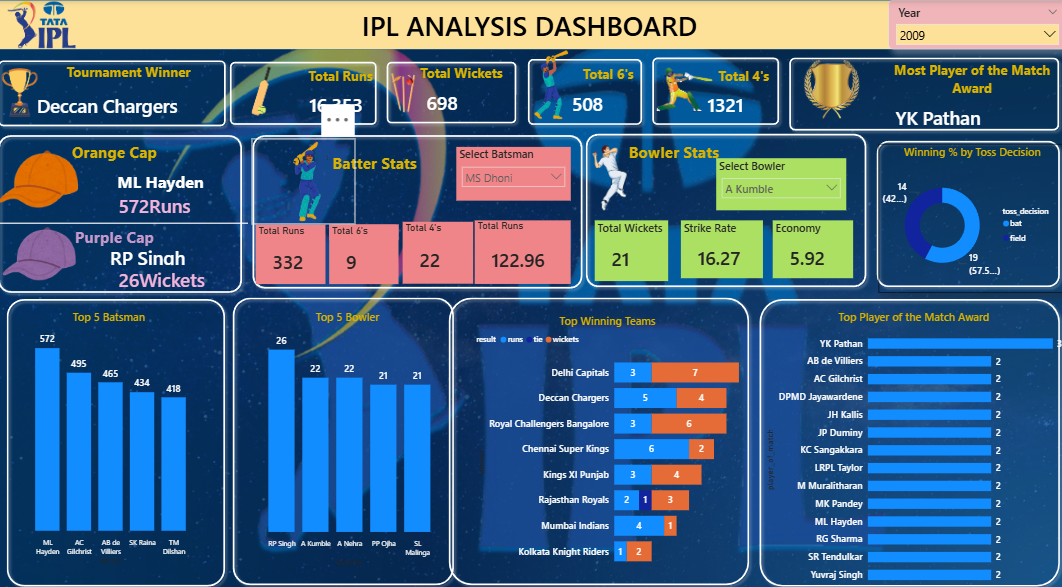

Layout of this report page (visuals, bound fields, positions):
{"tool":"powerbi","page":{"name":"IPL Stats Top 5 By Performance ","canvas":[1850,1020],"ordinal":1},"visuals":[{"type":"shape","box":[0,0,1851.2,85.4],"z":0},{"type":"shape","box":[1365.8,90.4,483.8,144.2],"z":1000},{"type":"shape","box":[400.7,97.7,271.2,127.1],"z":2000},{"type":"shape","box":[0,95.3,410.5,131.9],"z":3000},{"type":"slicer","fields":{"Values":["Date_Table.Year"]},"box":[1543.9,0,307.3,85],"z":4000},{"type":"cardVisual","title":"Tournament Winner","fields":{"Data":["matches.Tournament Winner"]},"box":[46.3,107.2,375.3,114.5],"z":5000},{"type":"shape","box":[1128.8,90.4,237,134.4],"z":6000},{"type":"shape","box":[669.5,97.7,241.9,124.6],"z":7000},{"type":"shape","box":[913.8,92.8,215,131.9],"z":8000},{"type":"cardVisual","title":"Total Runs","fields":{"Data":["Sum(deliveries.total_runs)"]},"box":[515.5,114.8,166.1,100.2],"z":9000},{"type":"cardVisual","title":"Total Wickets","fields":{"Data":["Sum(deliveries.is_wicket)"]},"box":[718.3,110,178.4,100.2],"z":10000},{"type":"cardVisual","title":"Total 6''s","fields":{"Data":["CountNonNull(deliveries.batsman_runs)"]},"box":[970.7,112.2,182.9,100],"z":11000},{"type":"cardVisual","title":"Most Player of the Match Award ","fields":{"Data":["Min(matches.player_of_match)"]},"box":[1527.1,105.1,322.5,131.9],"z":12000},{"type":"shape","box":[0,224.2,438.6,290],"z":13000},{"type":"shape","box":[0,359.2,439.8,53.8],"z":14000},{"type":"textbox","box":[92.7,239,234.1,61],"z":15000},{"type":"textbox","box":[92.7,385.4,234.1,51.2],"z":16000},{"type":"cardVisual","fields":{"Data":["Min(deliveries.batter)"]},"box":[185.2,268.1,277.8,87.7],"z":17000},{"type":"cardVisual","fields":{"Data":["deliveries.Orange Cap"]},"box":[187.6,319.2,202.3,68.2],"z":18000},{"type":"cardVisual","fields":{"Data":["Min(deliveries.bowler)"]},"box":[173,411.8,265.6,63.4],"z":19000},{"type":"cardVisual","fields":{"Data":["deliveries.Purple Cap Holder Wickets"]},"box":[187.6,443.5,216.9,73.1],"z":20000},{"type":"cardVisual","title":"Total 4''s","fields":{"Data":["CountNonNull(deliveries.batsman_runs)"]},"box":[1204.9,114.6,182.9,100],"z":21000},{"type":"shape","box":[438.6,224.2,587.3,282.7],"z":22000},{"type":"shape","box":[1013.8,221.8,502,282.7],"z":23000},{"type":"slicer","title":"Select Batsman","fields":{"Values":["deliveries.batter"]},"box":[799.3,253.4,197.4,92.6],"z":24000},{"type":"cardVisual","title":"Total Runs","fields":{"Data":["Sum(deliveries.batsman_runs)"]},"box":[453.3,387.5,120,102.4],"z":25000},{"type":"cardVisual","title":"Total 6''s","fields":{"Data":["CountNonNull(deliveries.batsman_runs)"]},"box":[580,387.5,119.4,102.4],"z":26000},{"type":"cardVisual","title":"Total 4''s","fields":{"Data":["CountNonNull(deliveries.batsman_runs)"]},"box":[706.7,382.6,121.8,107.2],"z":27000},{"type":"cardVisual","title":"Total Runs","fields":{"Data":["deliveries.Batsman Strike Rate"]},"box":[831,380.2,165.7,109.7],"z":28000},{"type":"slicer","title":"Select Bowler","fields":{"Values":["deliveries.bowler"]},"box":[1247.7,272.9,224.2,90.2],"z":29000},{"type":"cardVisual","title":"Total Wickets","fields":{"Data":["Sum(deliveries.is_wicket)"]},"box":[1038.1,380.2,126.7,104.8],"z":30000},{"type":"cardVisual","title":"Economy","fields":{"Data":["deliveries.Bowler Economy"]},"box":[1345.2,380.2,138.9,99.9],"z":31000},{"type":"cardVisual","title":"Strike Rate","fields":{"Data":["deliveries.Bowler Strike Rate"]},"box":[1186.8,380.2,141.3,99.9],"z":32000},{"type":"textbox","box":[536.1,258.3,226.6,48.7],"z":33000},{"type":"textbox","box":[1091.7,238.8,199.8,46.3],"z":34000},{"type":"shape","box":[1515.8,233.9,333.9,270.5],"z":35000},{"type":"donutChart","title":"Winning % by Toss Decision","fields":{"Y":["CountNonNull(matches.winner)"],"Category":["matches.toss_decision"]},"box":[1526.8,248.8,322,256.1],"z":36000},{"type":"columnChart","title":"Top 5 Batsman","fields":{"Category":["deliveries.batter"],"Y":["Sum(deliveries.batsman_runs)"]},"box":[39,534.1,322,446.3],"z":37000},{"type":"shape","box":[404.5,504.4,399.7,514.2],"z":38000},{"type":"shape","box":[14.6,506.9,394.8,514.2],"z":39000},{"type":"columnChart","title":"Top 5 Bowler","fields":{"Category":["deliveries.bowler"],"Y":["Sum(deliveries.is_wicket)"]},"box":[438.6,533.7,346,448.4],"z":40000},{"type":"shape","box":[777.4,504.4,536.1,514.2],"z":41000},{"type":"barChart","title":"Top Winning Teams ","fields":{"Category":["matches.winner"],"Y":["CountNonNull(matches.winner)"],"Series":["matches.result"]},"box":[829.3,541.5,463.4,451.2],"z":42000},{"type":"shape","box":[1313.5,506.9,536.1,514.2],"z":43000},{"type":"barChart","title":"Top Player of the Match Award","fields":{"Category":["matches.player_of_match"],"Y":["CountNonNull(matches.player_of_match)"]},"box":[1328.1,533.7,521.5,484.9],"z":44000},{"type":"image","box":[639,122,139,80.5],"z":45000},{"type":"image","box":[0,258.5,161,104.9],"z":46000},{"type":"image","box":[0,104.8,92.6,109.7],"z":47000},{"type":"image","box":[390.2,104.9,146.3,104.9],"z":48000},{"type":"image","box":[14.6,387.8,134.1,102.4],"z":49000},{"type":"image","box":[1387.8,92.7,126.8,126.8],"z":50000},{"type":"image","box":[892.7,82.9,146.3,126.8],"z":51000},{"type":"image","box":[1141.5,90.2,104.9,134.1],"z":52000},{"type":"image","box":[982.1,251,163.3,112.1],"z":53000},{"type":"image","box":[446,238.8,180.3,148.7],"z":54000},{"type":"image","box":[0,2.4,168.1,80.4],"z":55000}]}

Visuals, with their boxes in screenshot pixels (x1, y1, x2, y2), scaled from the page's 1850x1020 canvas onto the 1062x587 screenshot:
shape: box=[0, 0, 1061, 49]
shape: box=[784, 52, 1061, 135]
shape: box=[230, 56, 386, 129]
shape: box=[0, 55, 236, 131]
slicer - Date_Table.Year: box=[886, 0, 1061, 49]
"Tournament Winner" cardVisual: box=[27, 62, 242, 128]
shape: box=[648, 52, 784, 129]
shape: box=[384, 56, 523, 128]
shape: box=[525, 53, 648, 129]
"Total Runs" cardVisual: box=[296, 66, 391, 124]
"Total Wickets" cardVisual: box=[412, 63, 515, 121]
"Total 6''s" cardVisual: box=[557, 65, 662, 122]
"Most Player of the Match Award " cardVisual: box=[877, 60, 1061, 136]
shape: box=[0, 129, 252, 296]
shape: box=[0, 207, 252, 238]
textbox: box=[53, 138, 188, 173]
textbox: box=[53, 222, 188, 251]
cardVisual - Min(deliveries.batter): box=[106, 154, 266, 205]
cardVisual - deliveries.Orange Cap: box=[108, 184, 224, 223]
cardVisual - Min(deliveries.bowler): box=[99, 237, 252, 273]
cardVisual - deliveries.Purple Cap Holder Wickets: box=[108, 255, 232, 297]
"Total 4''s" cardVisual: box=[692, 66, 797, 124]
shape: box=[252, 129, 589, 292]
shape: box=[582, 128, 870, 290]
"Select Batsman" slicer: box=[459, 146, 572, 199]
"Total Runs" cardVisual: box=[260, 223, 329, 282]
"Total 6''s" cardVisual: box=[333, 223, 401, 282]
"Total 4''s" cardVisual: box=[406, 220, 476, 282]
"Total Runs" cardVisual: box=[477, 219, 572, 282]
"Select Bowler" slicer: box=[716, 157, 845, 209]
"Total Wickets" cardVisual: box=[596, 219, 669, 279]
"Economy" cardVisual: box=[772, 219, 852, 276]
"Strike Rate" cardVisual: box=[681, 219, 762, 276]
textbox: box=[308, 149, 438, 177]
textbox: box=[627, 137, 741, 164]
shape: box=[870, 135, 1061, 290]
"Winning % by Toss Decision" donutChart: box=[876, 143, 1061, 291]
"Top 5 Batsman" columnChart: box=[22, 307, 207, 564]
shape: box=[232, 290, 462, 586]
shape: box=[8, 292, 235, 586]
"Top 5 Bowler" columnChart: box=[252, 307, 450, 565]
shape: box=[446, 290, 754, 586]
"Top Winning Teams " barChart: box=[476, 312, 742, 571]
shape: box=[754, 292, 1061, 586]
"Top Player of the Match Award" barChart: box=[762, 307, 1061, 586]
image: box=[367, 70, 447, 117]
image: box=[0, 149, 92, 209]
image: box=[0, 60, 53, 123]
image: box=[224, 60, 308, 121]
image: box=[8, 223, 85, 282]
image: box=[797, 53, 869, 126]
image: box=[512, 48, 596, 121]
image: box=[655, 52, 716, 129]
image: box=[564, 144, 658, 209]
image: box=[256, 137, 360, 223]
image: box=[0, 1, 96, 48]
